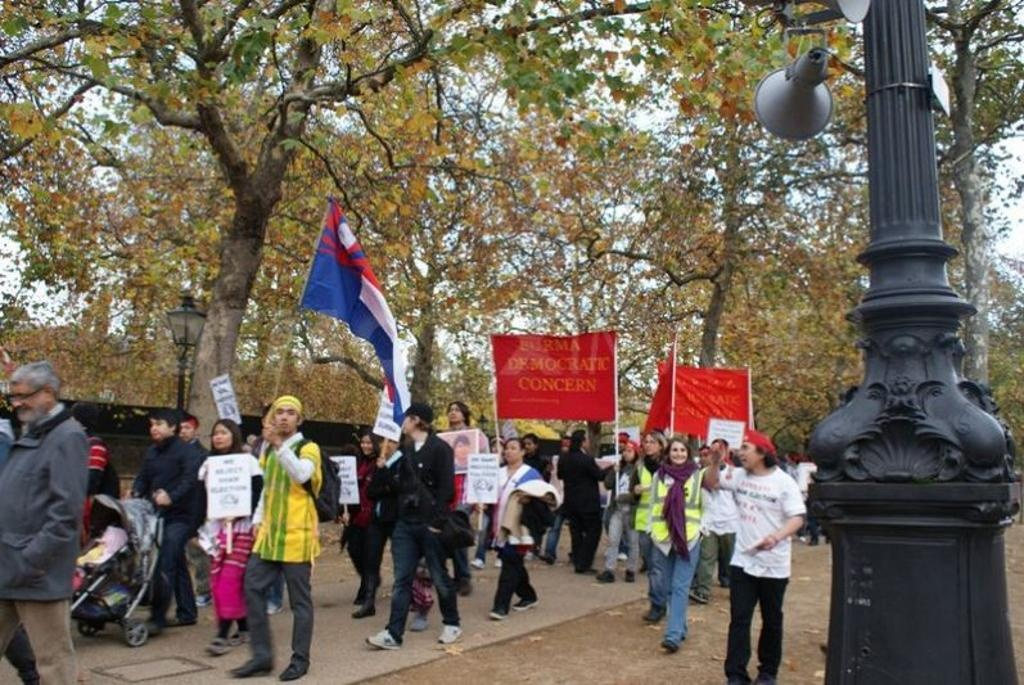human_face: (11, 382, 41, 418), (739, 440, 759, 466), (274, 408, 296, 429), (150, 418, 168, 438), (176, 421, 194, 441), (212, 426, 230, 446), (670, 441, 686, 463), (379, 434, 395, 452), (644, 434, 658, 454), (504, 443, 520, 460), (360, 436, 374, 454), (448, 404, 462, 420), (402, 414, 414, 432), (623, 445, 635, 461), (456, 442, 466, 457), (523, 438, 533, 452), (699, 449, 709, 463), (492, 441, 502, 453), (618, 437, 624, 447)
